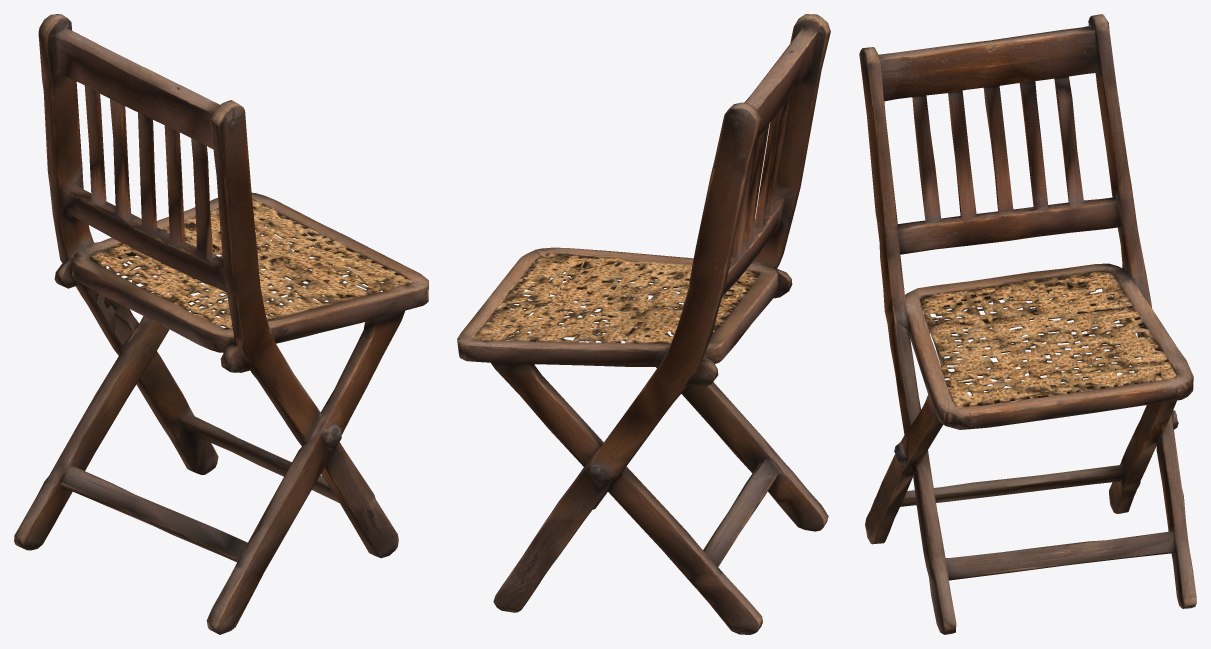
Rendered from folding-chair.glb.
3 views of the same model, side by side, from view 1: azimuth 30°, elevation 25°; view 2: azimuth 150°, elevation 25°; view 3: azimuth 270°, elevation 25° (orthographic). The views are drawn at different scales.
Visible parts, largest first — view 1: Supplied folding-chair; view 2: Supplied folding-chair; view 3: Supplied folding-chair.
Part boxes in pixels (x1,y1,x2,y2): Supplied folding-chair: [14, 14, 428, 634]; Supplied folding-chair: [457, 14, 830, 634]; Supplied folding-chair: [859, 14, 1196, 634].
Bounding box in the file's own units: 1 × 1.57 × 0.9519.
Materials: 1 (1 with a texture image).
